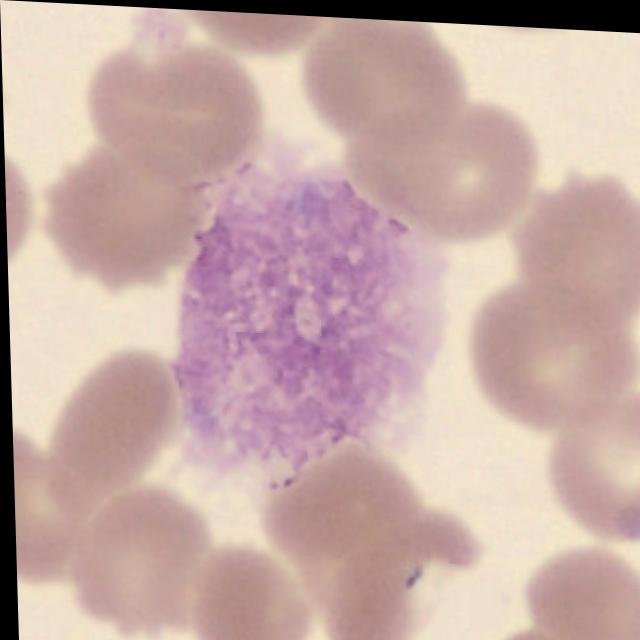Restos celulares: (171, 168, 446, 489)
